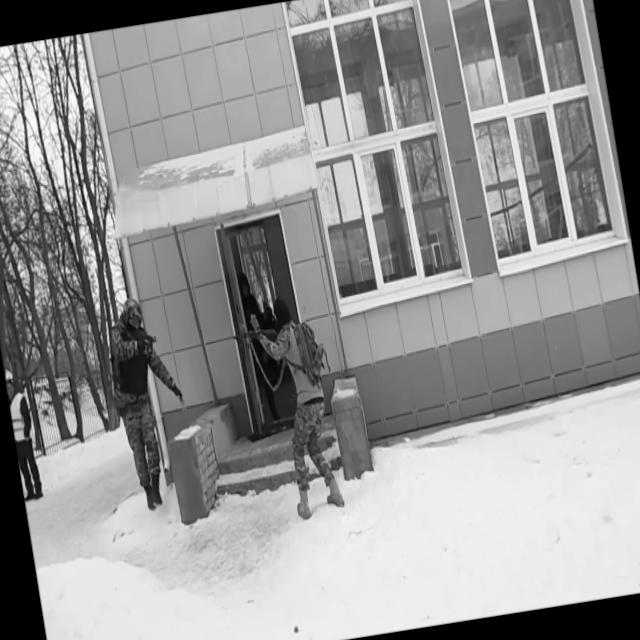gun: (230, 322, 284, 369), (121, 320, 162, 362)
person: (236, 270, 286, 424), (5, 374, 46, 504)
person with a gun: (226, 293, 348, 529), (100, 292, 202, 514)
